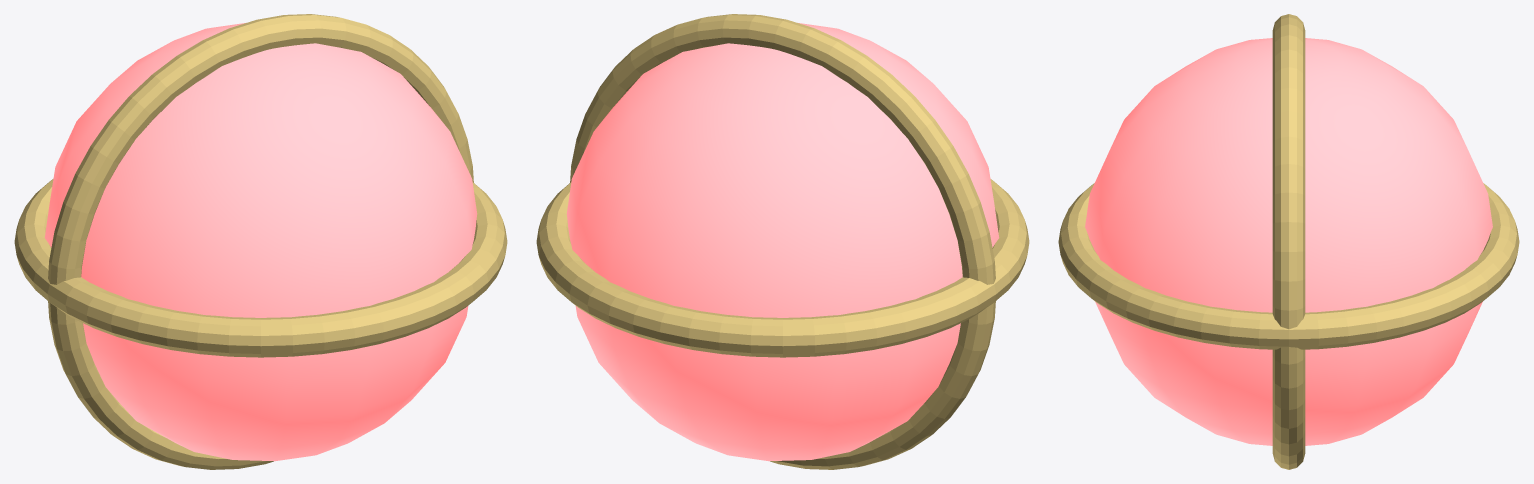
Rendered from hazard_ball.glb.
The picture shows the model from 3 angles, left to right: view 1: azimuth 30°, elevation 25°; view 2: azimuth 150°, elevation 25°; view 3: azimuth 270°, elevation 25°; orthographic projection. The views are drawn at different scales.
Parts seen in each view (by area): view 1: HazardBallSphere, BallBrassRingB, BallBrassRingA; view 2: HazardBallSphere, BallBrassRingB, BallBrassRingA; view 3: HazardBallSphere, BallBrassRingA, BallBrassRingB.
Part boxes in pixels (bbox=[...]): HazardBallSphere: bbox=[44, 23, 477, 461]; BallBrassRingB: bbox=[48, 14, 473, 469]; BallBrassRingA: bbox=[14, 179, 507, 357]; HazardBallSphere: bbox=[566, 23, 999, 461]; BallBrassRingB: bbox=[570, 14, 995, 469]; BallBrassRingA: bbox=[536, 179, 1029, 357]; HazardBallSphere: bbox=[1085, 38, 1492, 445]; BallBrassRingA: bbox=[1058, 183, 1519, 349]; BallBrassRingB: bbox=[1272, 14, 1305, 469].
Bounding box in the file's own units: 0.7576 × 0.75 × 0.7576.
